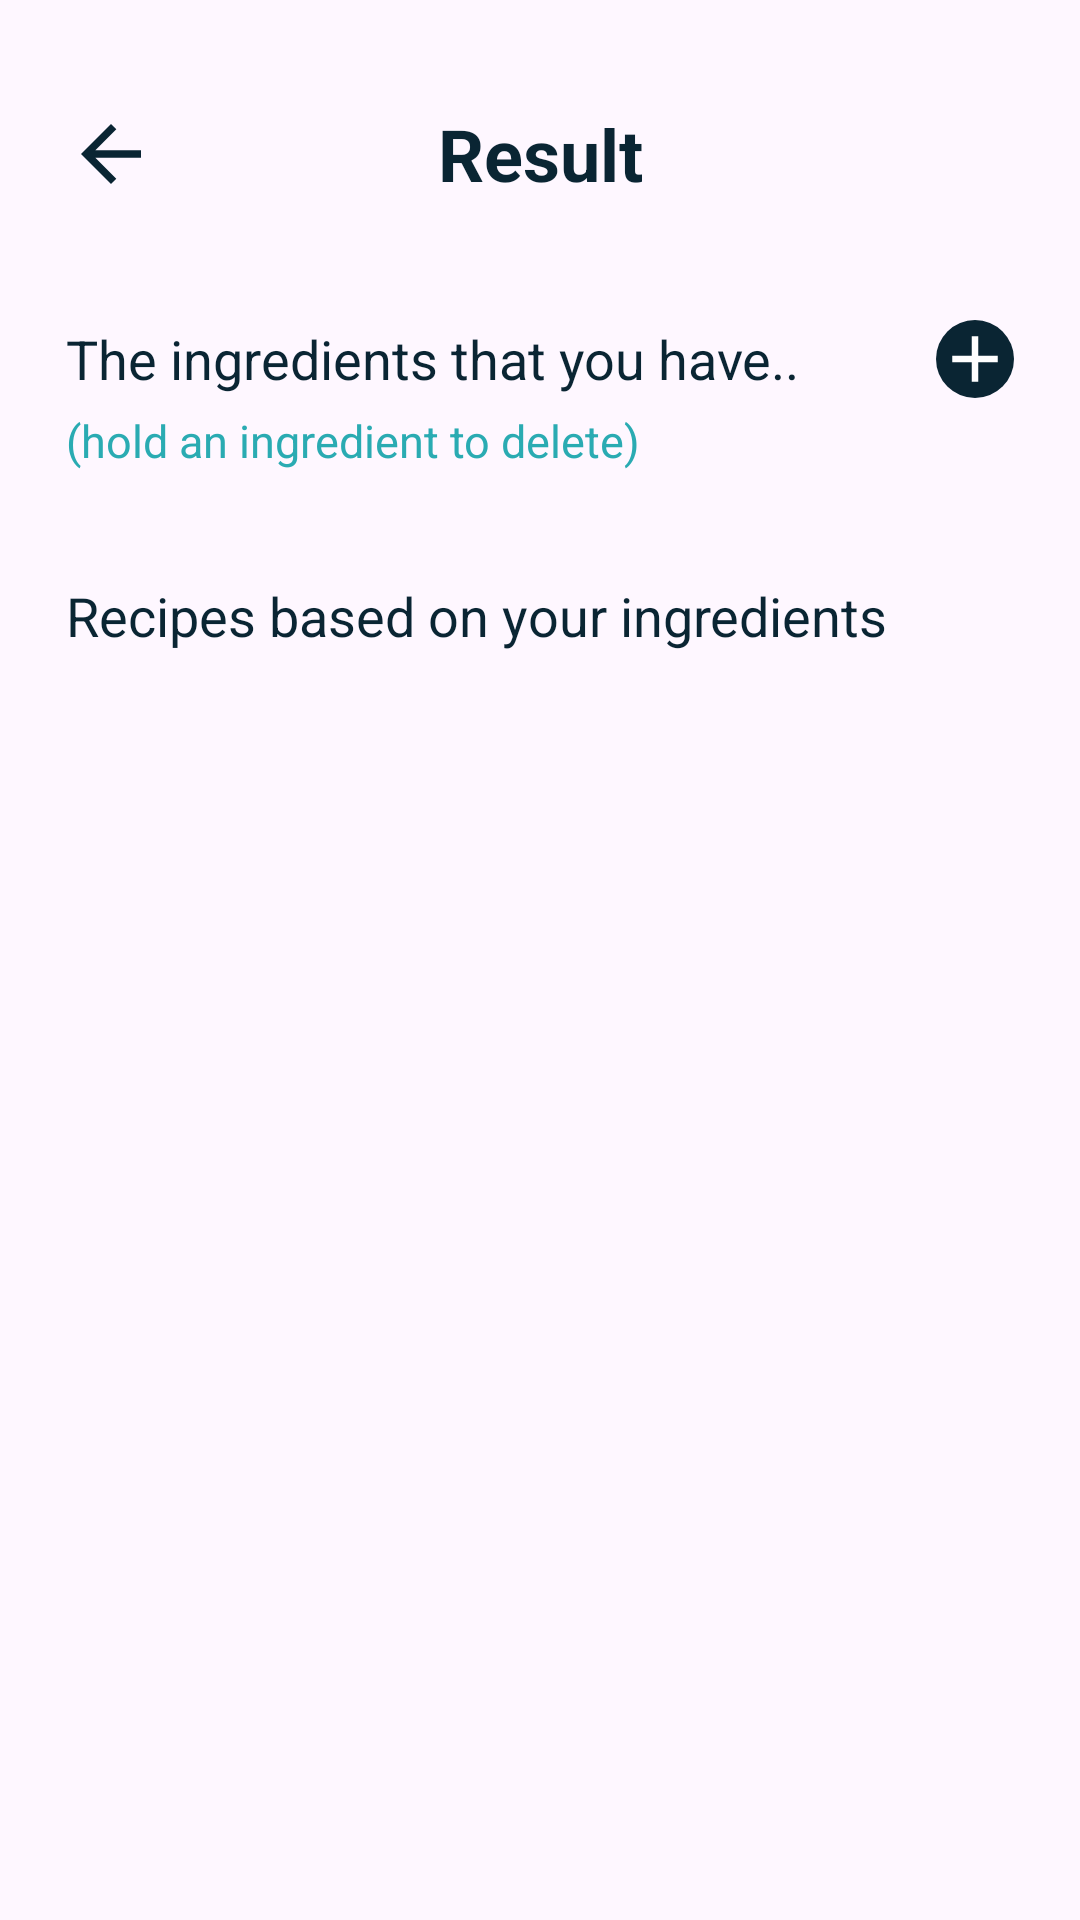

Locate icon controls on the screen. Image size 1080x1920, boxes as (left=x1, top=y1, right=x2, bottom=y2).
add: (left=936, top=320, right=1014, bottom=398)
arrow back: (left=81, top=124, right=141, bottom=184)
